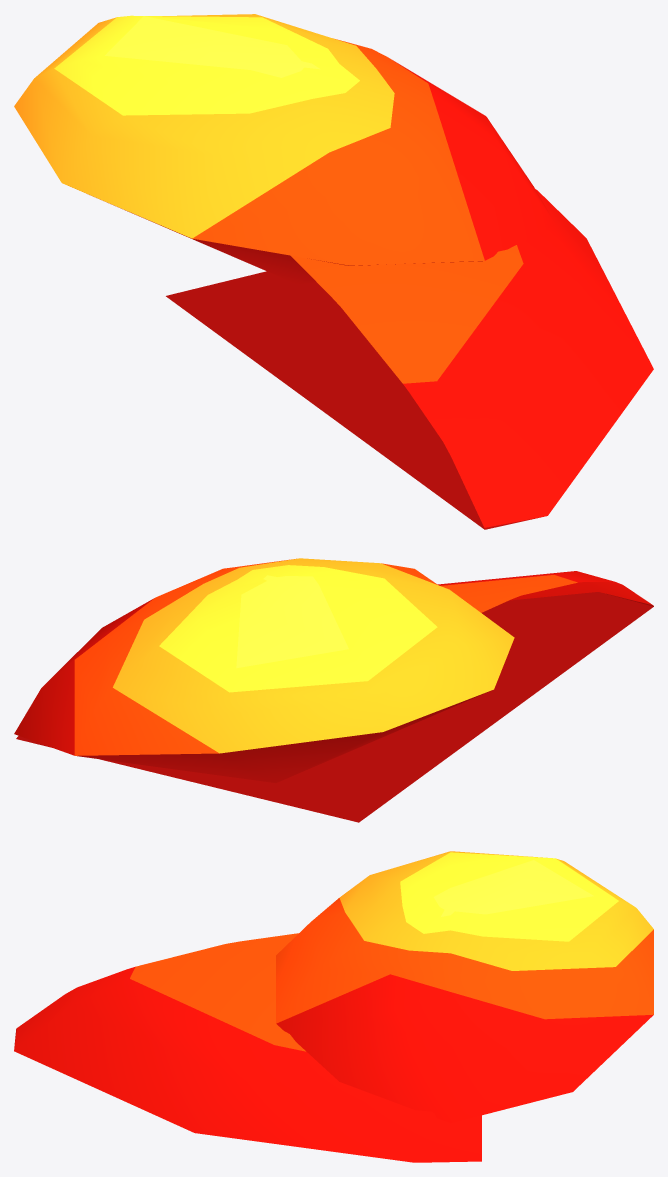
Rendered from shot_zflame_234.glb.
3 renders of one model, top to bottom at view 1: azimuth 30°, elevation 25°; view 2: azimuth 150°, elevation 25°; view 3: azimuth 270°, elevation 25°, orthographic. The views are drawn at different scales.
Visible parts, largest first — view 1: zflame_5_billow2_b234, zflame_5_bed_b234; view 2: zflame_5_billow2_b234, zflame_5_bed_b234; view 3: zflame_5_billow2_b234, zflame_5_bed_b234.
Boxes of the visible parts, bbox=[...] form: zflame_5_billow2_b234: bbox=[14, 14, 555, 284]; zflame_5_bed_b234: bbox=[166, 189, 653, 529]; zflame_5_billow2_b234: bbox=[14, 558, 514, 782]; zflame_5_bed_b234: bbox=[16, 571, 653, 822]; zflame_5_billow2_b234: bbox=[276, 851, 653, 1123]; zflame_5_bed_b234: bbox=[14, 933, 481, 1162].
Size of the model in its own units: 6.75 by 2.95 by 10.27.
